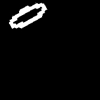chain: (9, 3, 46, 27)
